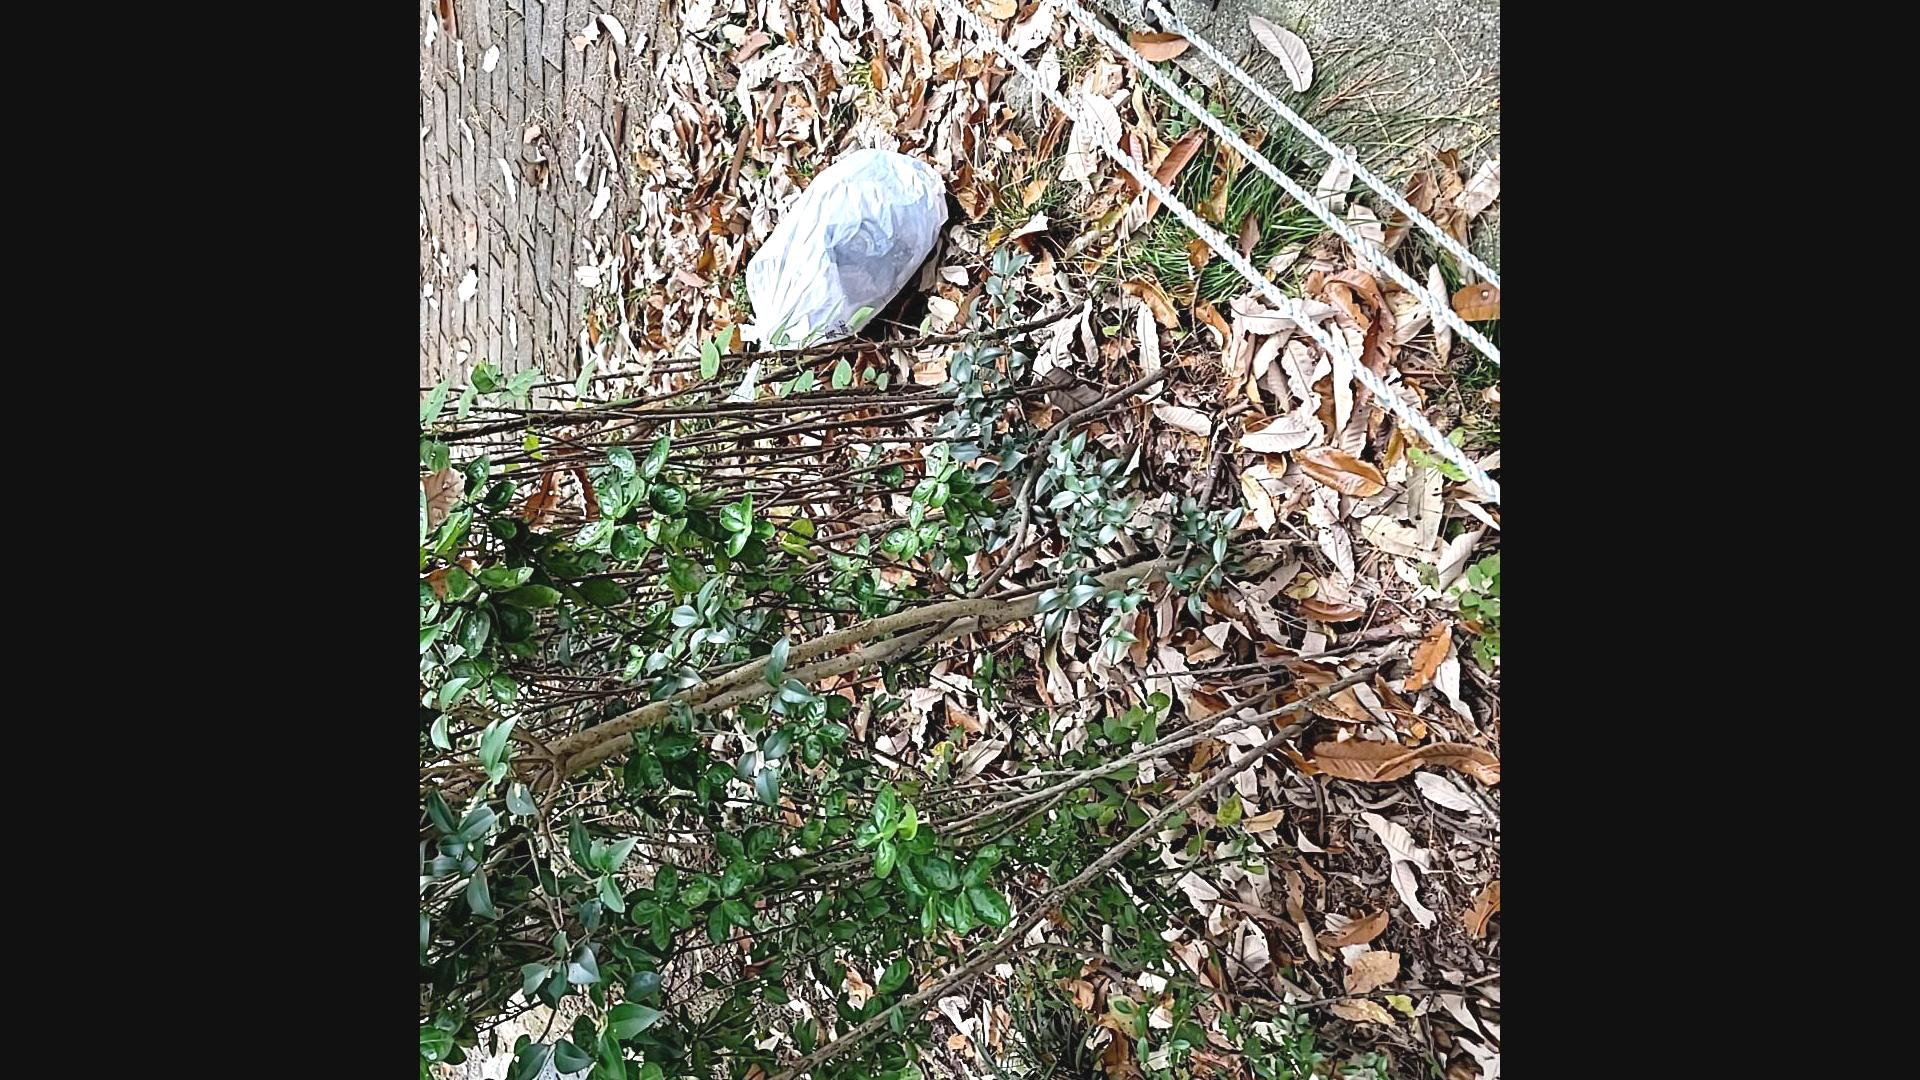white_bag: (711, 144, 961, 417)
